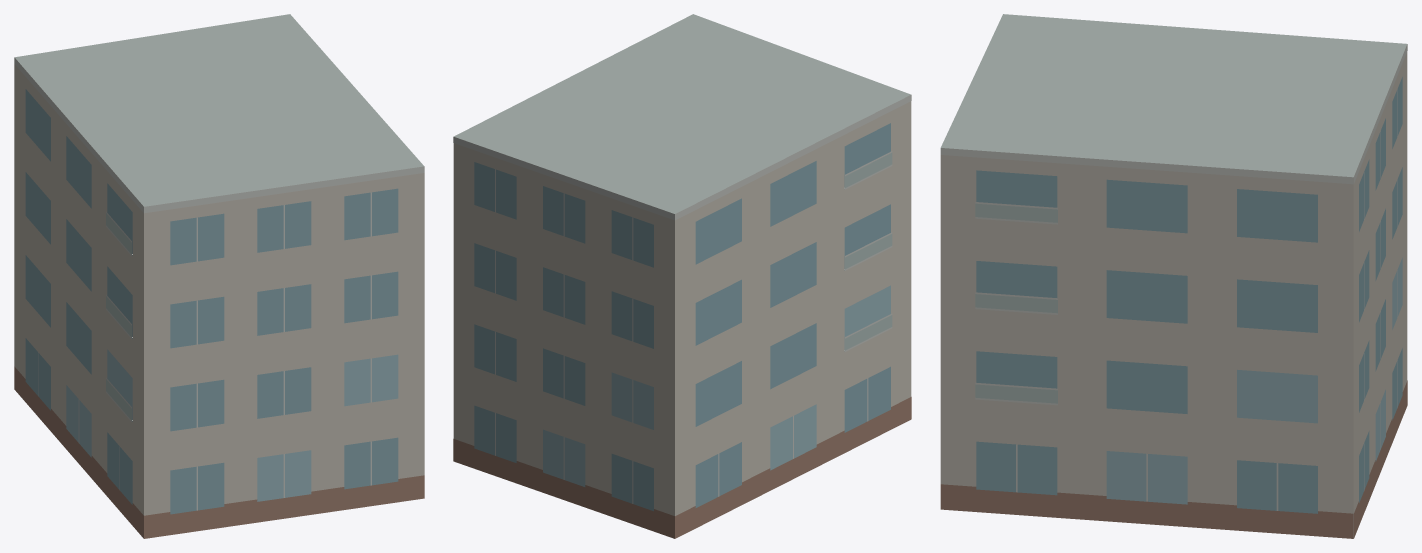
Rendered from survey-upis-32682923.glb.
The picture shows the model from 3 angles, left to right: view 1: azimuth 30°, elevation 25°; view 2: azimuth 150°, elevation 25°; view 3: azimuth 270°, elevation 25°; orthographic projection. The views are drawn at different scales.
Visible parts, largest first — view 1: survey-upis-32682923.tmp; view 2: survey-upis-32682923.tmp; view 3: survey-upis-32682923.tmp.
Boxes of the visible parts, x1,y1,x2,y2 form: survey-upis-32682923.tmp: (14,14,424,538); survey-upis-32682923.tmp: (453,14,911,538); survey-upis-32682923.tmp: (940,14,1407,538).
Size of the model in its own units: 12.11 by 12.5 by 14.64.
